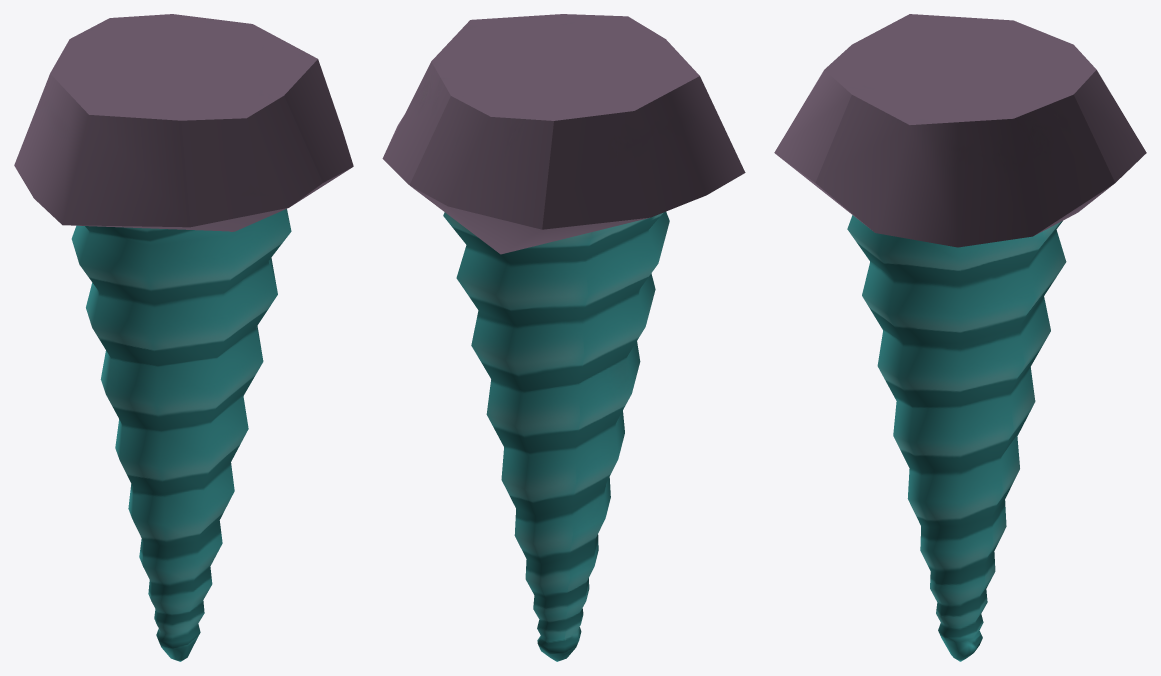
Rendered from m_stalagmite1_je_4.fbx.
3 views of the same model, side by side, from view 1: azimuth 30°, elevation 25°; view 2: azimuth 150°, elevation 25°; view 3: azimuth 270°, elevation 25° (orthographic).
Parts seen in each view (by area): view 1: polySurface292; view 2: polySurface292; view 3: polySurface292.
Boxes of the visible parts, x1,y1,x2,y2 form: polySurface292: (14,14,353,661); polySurface292: (382,14,745,661); polySurface292: (774,14,1146,661).
Size of the model in its own units: 27.86 by 50.49 by 28.84.
